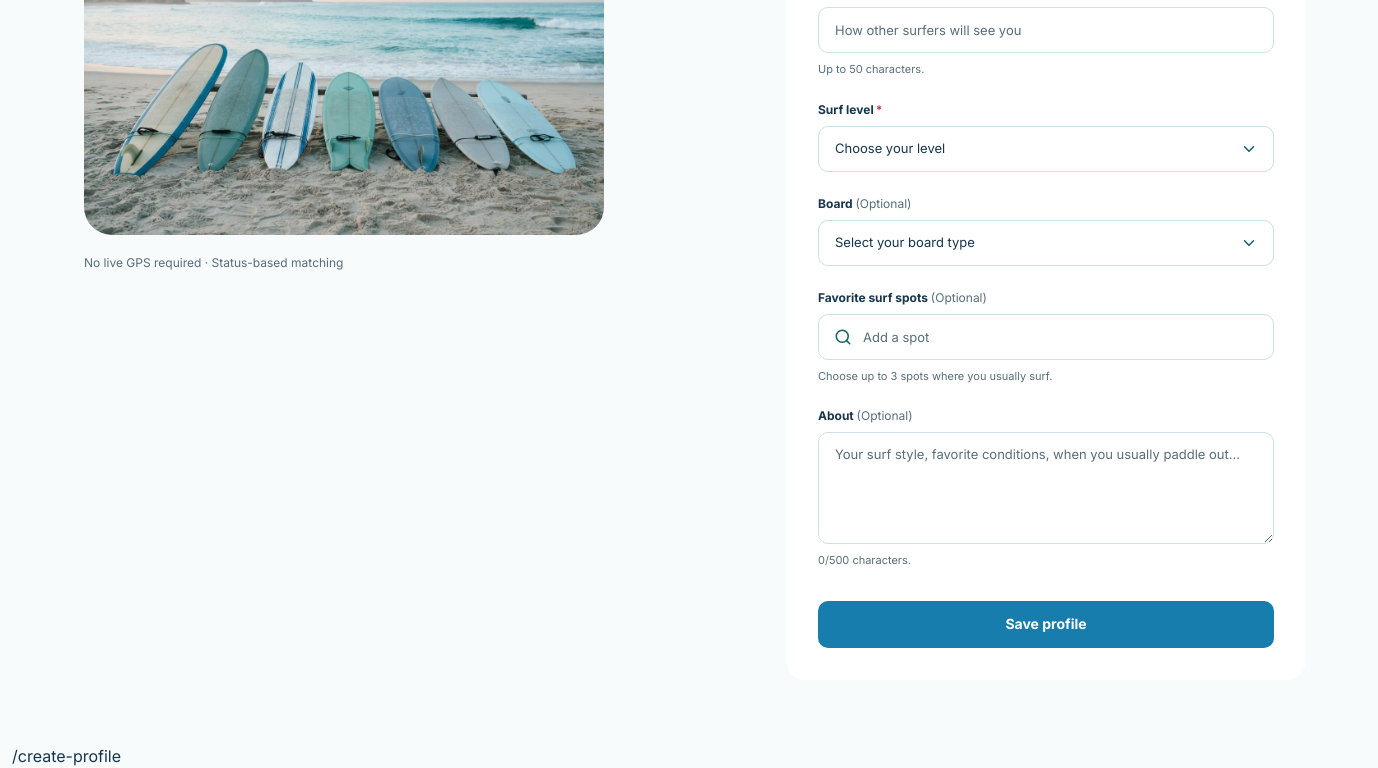
Create Profile form › display name and skill level are required; nothing is sent
(page scrolled)
Click the submit button. click: (1046, 624)
box: [818,600,1274,648]
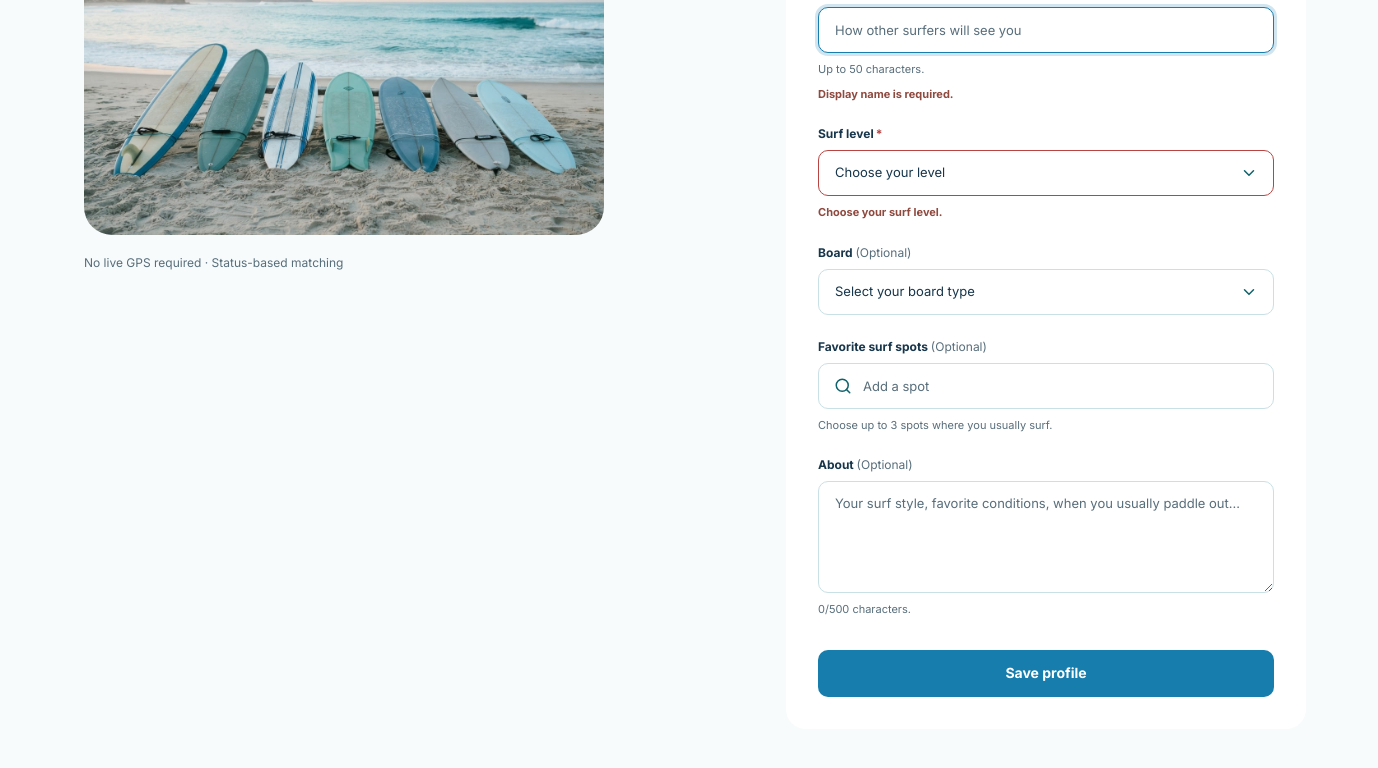
Result: the text "Display name is required." is shown at [818,86,954,100]
Result: the text "Choose your surf level." is shown at [818,205,942,219]
